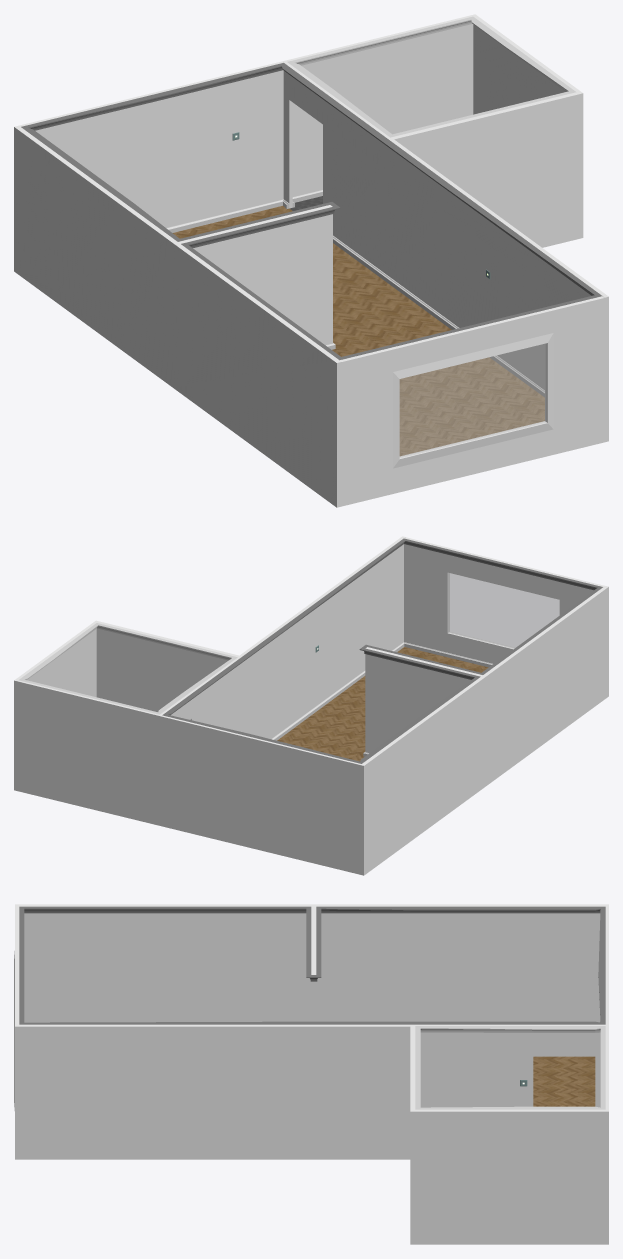
Rendered from House.fbx.
3 views of the same model, one above another, from view 1: azimuth 30°, elevation 25°; view 2: azimuth 150°, elevation 25°; view 3: azimuth 270°, elevation 25° (orthographic). The views are drawn at different scales.
Visible parts, largest first — view 1: House, DiningRoomWindowWall, WoodenFloor, WindowGlass, TopEdge, LaundryTopEdge, BottomEdge; view 2: House, DiningRoomWindowWall, WindowGlass, TopEdge, WoodenFloor, LaundryTopEdge, BottomEdge; view 3: House, TopEdge, WoodenFloor, LaundryTopEdge, DiningRoomWindowWall.
Boxes of the visible parts, bbox=[...] form: House: bbox=[14, 14, 608, 507]; DiningRoomWindowWall: bbox=[340, 296, 604, 503]; WoodenFloor: bbox=[173, 205, 544, 456]; WindowGlass: bbox=[399, 343, 546, 457]; TopEdge: bbox=[21, 63, 601, 360]; LaundryTopEdge: bbox=[287, 16, 576, 137]; BottomEdge: bbox=[166, 199, 544, 397]; House: bbox=[14, 536, 608, 875]; DiningRoomWindowWall: bbox=[404, 537, 604, 663]; WindowGlass: bbox=[448, 573, 559, 648]; TopEdge: bbox=[162, 538, 602, 763]; WoodenFloor: bbox=[277, 647, 488, 761]; LaundryTopEdge: bbox=[18, 623, 237, 714]; BottomEdge: bbox=[271, 642, 492, 756]; House: bbox=[15, 904, 608, 1244]; TopEdge: bbox=[19, 906, 605, 1024]; WoodenFloor: bbox=[533, 1056, 595, 1106]; LaundryTopEdge: bbox=[415, 1026, 605, 1109]; DiningRoomWindowWall: bbox=[14, 906, 19, 1110].
Size of the model in its own units: 1980 by 593 by 2403.
